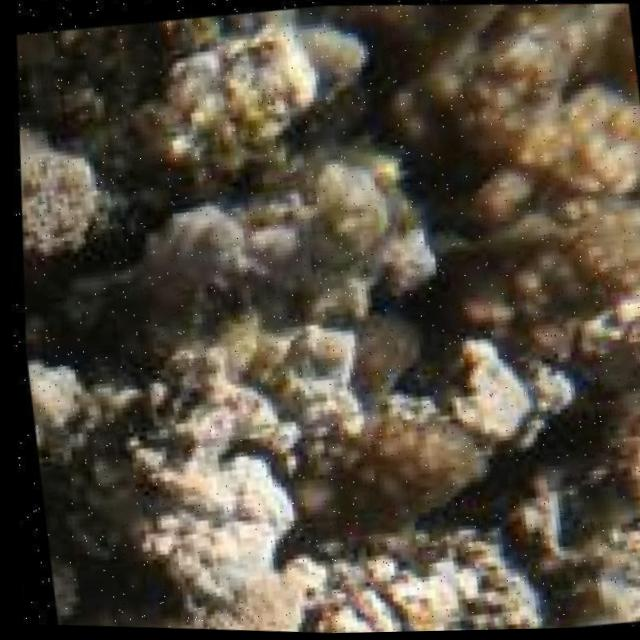Bleached Coral: (1, 16, 428, 640)
